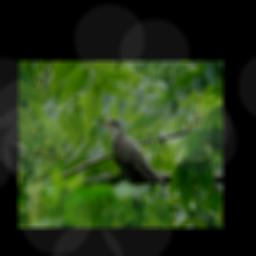Cuckoo: (98, 119, 167, 187)
